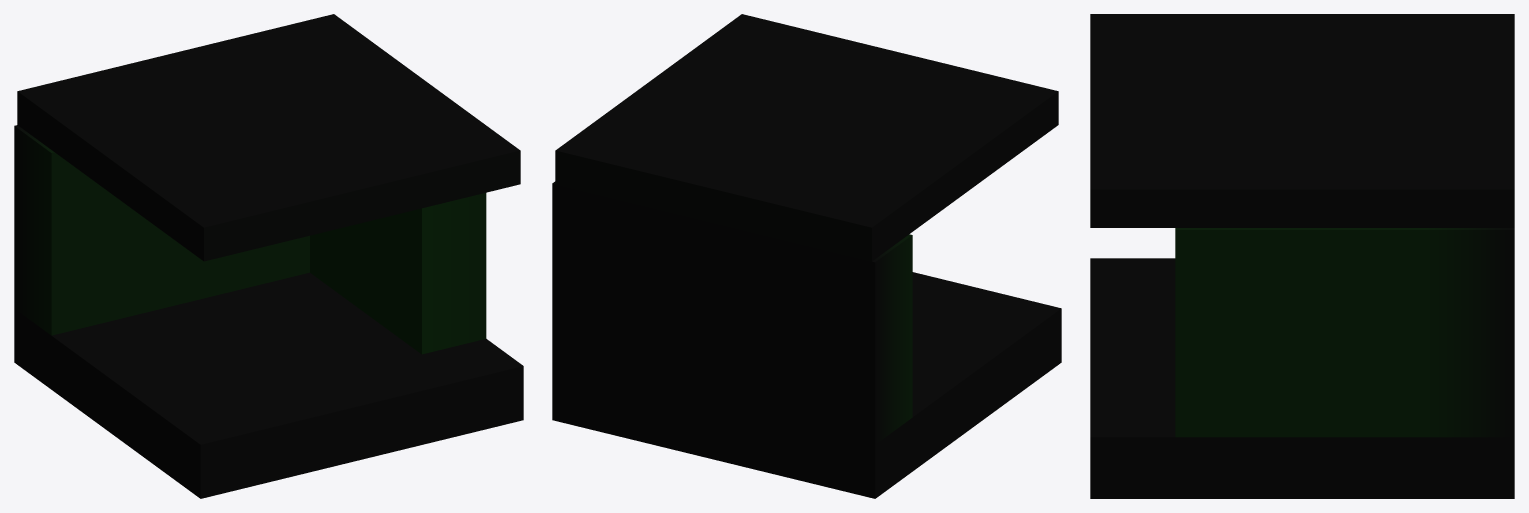
The model's file is muong_corner.mid.glb.
3 renders of one model, left to right at view 1: azimuth 30°, elevation 25°; view 2: azimuth 150°, elevation 25°; view 3: azimuth 270°, elevation 25°, orthographic. The views are drawn at different scales.
Visible parts, largest first — view 1: muong_corner; view 2: muong_corner; view 3: muong_corner.
Boxes of the visible parts, x1,y1,x2,y2 form: muong_corner: (14, 14, 523, 498); muong_corner: (552, 14, 1061, 498); muong_corner: (1090, 14, 1514, 498).
Size of the model in its own units: 0.5 by 0.4 by 0.5.
